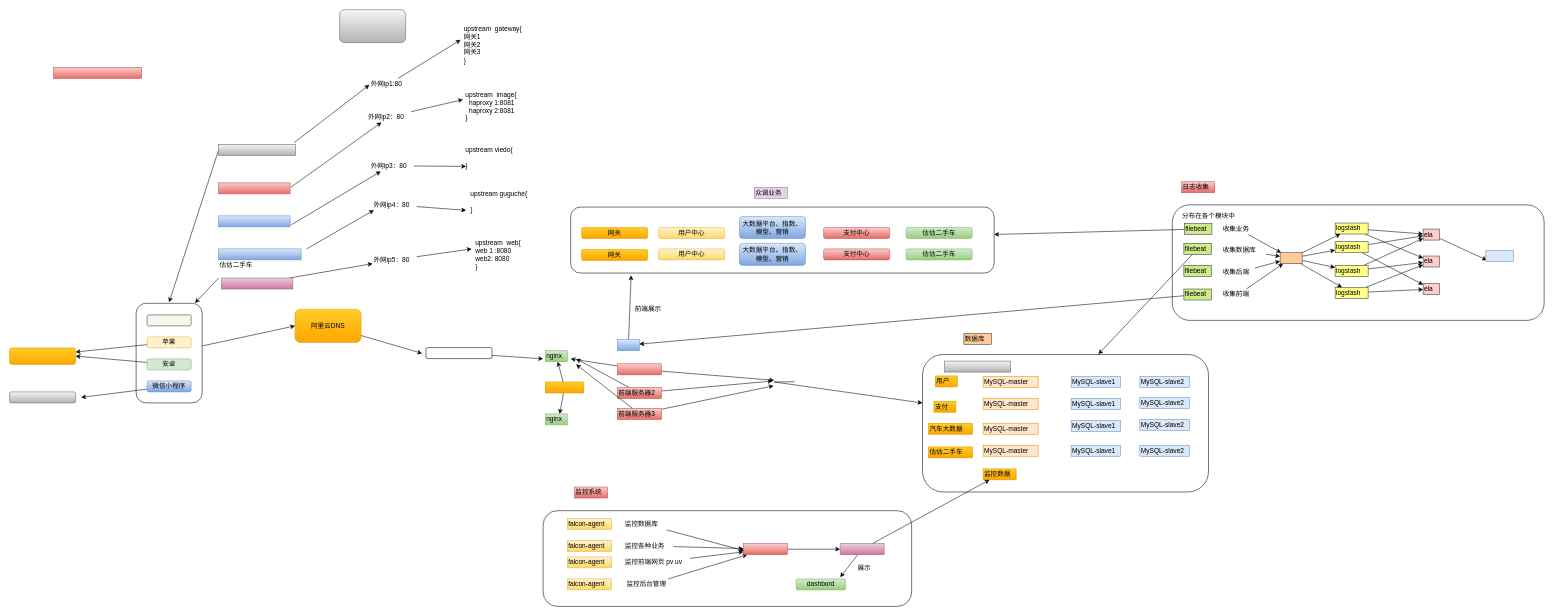
Image size: 1554x616. Some labels were removed from this diagram. Here are the shapes that lost their labels. From the top down, the centre of each, then its label:
point 372,26: IDC
point 97,72: 上海众调信息科技公司架构
point 257,149: gateway.zhongdiao.com
point 254,188: image.zhongdiao.com
point 254,221: video.zhongdiao.com
point 259,254: guguche.zhongdiao.com
point 1291,258: kafka
point 1499,256: kibana
point 257,283: www.zhongdiao.com
point 169,320: web
point 42,355: 各大应用商店
point 458,353: IDC机房网关
point 628,345: 前端
point 639,369: web服务器1
point 977,366: 主从复制+读写分离
point 42,397: 微信
point 564,387: keepalived
point 765,549: open-flacon
point 862,549: 数据传输到
